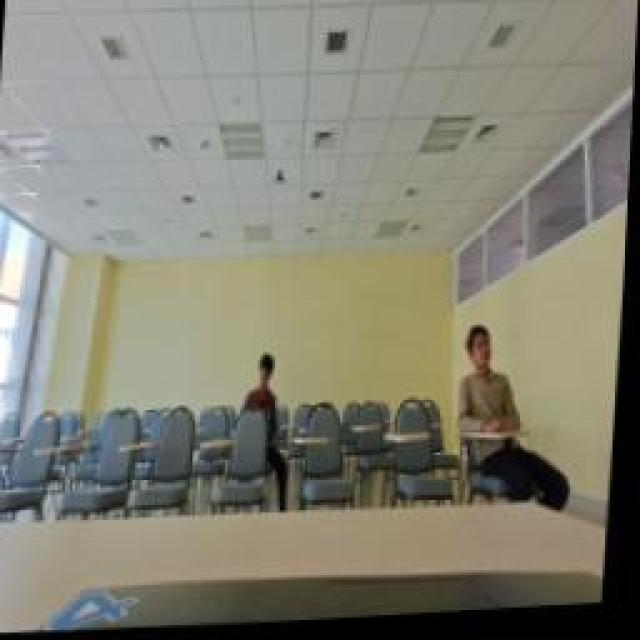study: (460, 330, 535, 445), (240, 355, 285, 420)
